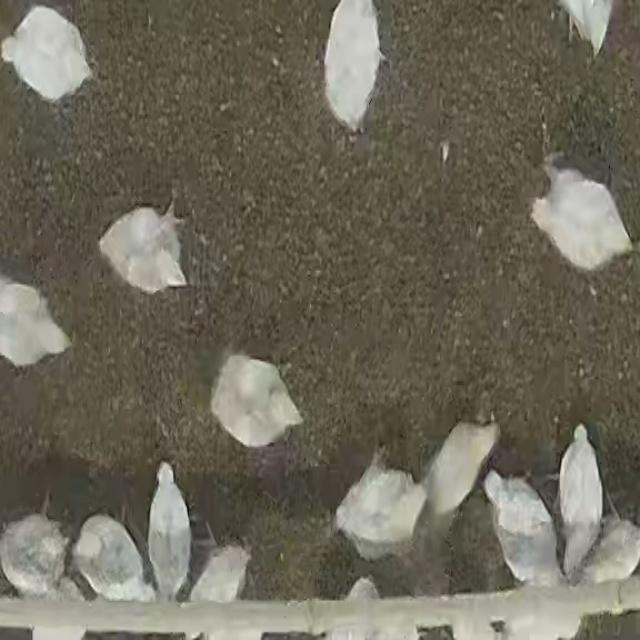chicken: (530, 161, 636, 276), (0, 6, 102, 105), (98, 195, 190, 301), (328, 462, 425, 560), (484, 470, 560, 588), (213, 353, 305, 449), (421, 418, 511, 512), (146, 460, 196, 602)
